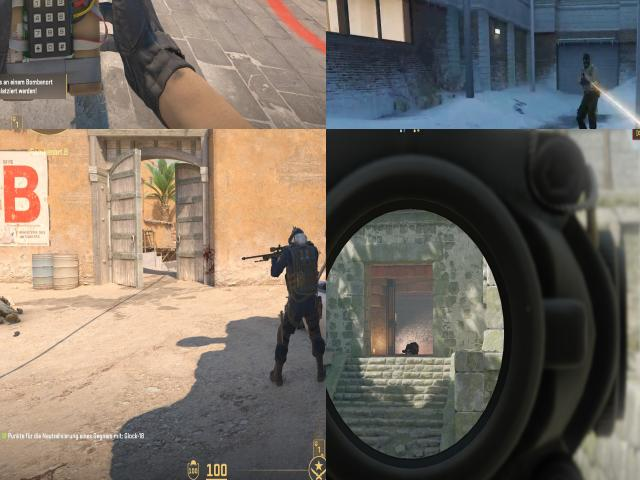Bomb: (0, 0, 101, 93)
CT: (279, 226, 323, 377)
CT-Head: (402, 341, 421, 360), (291, 228, 304, 245)
Dead: (0, 295, 23, 323)
T: (576, 42, 602, 106)
T-Head: (578, 50, 596, 70)
